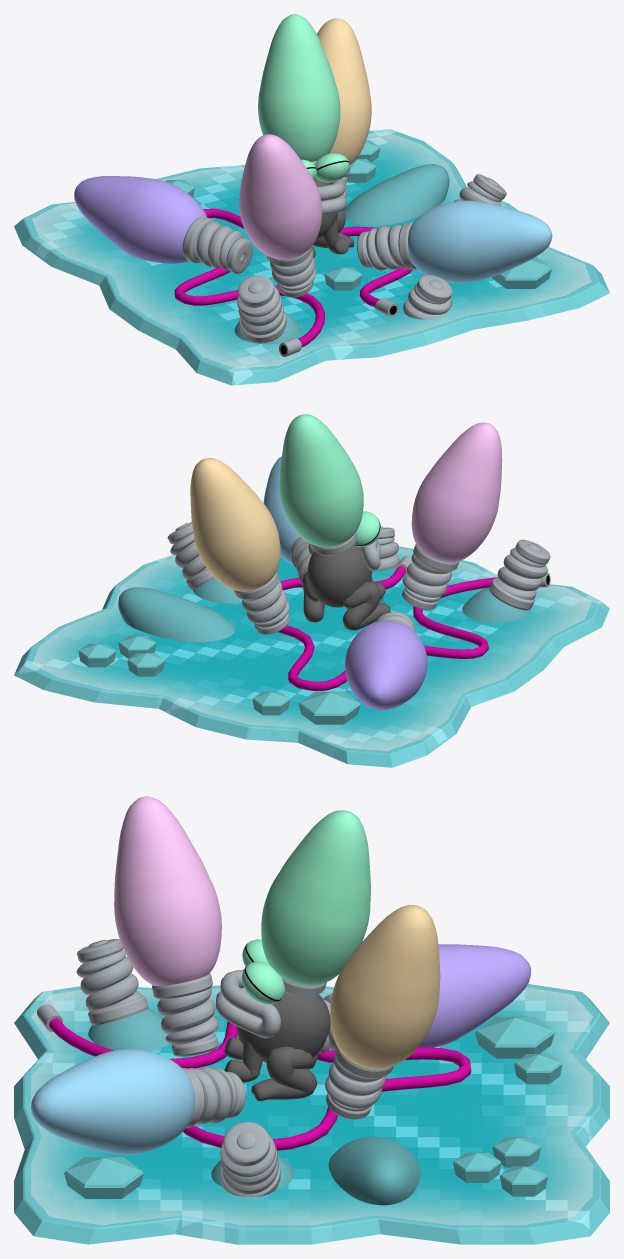
Rendered from Christmas_Bulby.fbx.
3 views of the same model, one above another, from view 1: azimuth 30°, elevation 25°; view 2: azimuth 150°, elevation 25°; view 3: azimuth 270°, elevation 25° (orthographic). The views are drawn at different scales.
Parts seen in each view (by area): view 1: snowpatch_2x2_5, light_color_3, headbulb, light_color_1, light_color_5, shaft_helix1 (×6), light_color_4, light_color_7, cable1, snowpatch_crystals, cap (×2), eye1 (+4 smaller); view 2: snowpatch_2x2_5, light_color_5, light_color_4, headbulb, shaft_helix1 (×5), light_color_1, snowpatch_crystals, light_color_7, cable1, roflbulb, leg (×2), light_color_3 (+6 smaller); view 3: snowpatch_2x2_5, light_color_5, headbulb, light_color_4, light_color_3, shaft_helix1 (×5), snowpatch_crystals, light_color_1, cable1, light_color_7, roflbulb, leg (+6 smaller).
Boxes of the visible parts, x1,y1,x2,y2 form: snowpatch_2x2_5: (14,129,609,385); light_color_3: (408,200,552,283); headbulb: (258,14,340,161); light_color_1: (74,176,206,263); light_color_5: (239,134,322,259); shaft_helix1 (×6): (193,181,501,335); light_color_4: (317,18,371,164); light_color_7: (343,164,449,225); cable1: (174,208,412,356); snowpatch_crystals: (165,140,551,290); cap (×2): (226,238,274,306); eye1: (315,153,349,182); snowpatch_2x2_5: (14,546,609,767); light_color_5: (411,422,502,562); light_color_4: (190,458,280,591); headbulb: (279,414,363,547); shaft_helix1 (×5): (170,533,547,627); light_color_1: (345,620,427,710); snowpatch_crystals: (78,594,384,724); light_color_7: (118,587,234,642); cable1: (278,556,550,690); roflbulb: (307,545,372,607); leg (×2): (302,572,390,630); light_color_3: (263,456,300,564); snowpatch_2x2_5: (14,984,609,1244); light_color_5: (114,796,221,985); headbulb: (261,810,370,985); light_color_4: (330,905,440,1068); light_color_3: (31,1049,194,1154); shaft_helix1 (×5): (76,950,386,1194); snowpatch_crystals: (64,1016,562,1198); light_color_1: (418,944,530,1047); cable1: (37,1004,471,1150); light_color_7: (328,1136,420,1205); roflbulb: (236,992,330,1062); leg: (251,1046,317,1101).
Size of the model in its own units: 1.92 by 1.08 by 1.91.
Materials: 12 (1 with a texture image).
